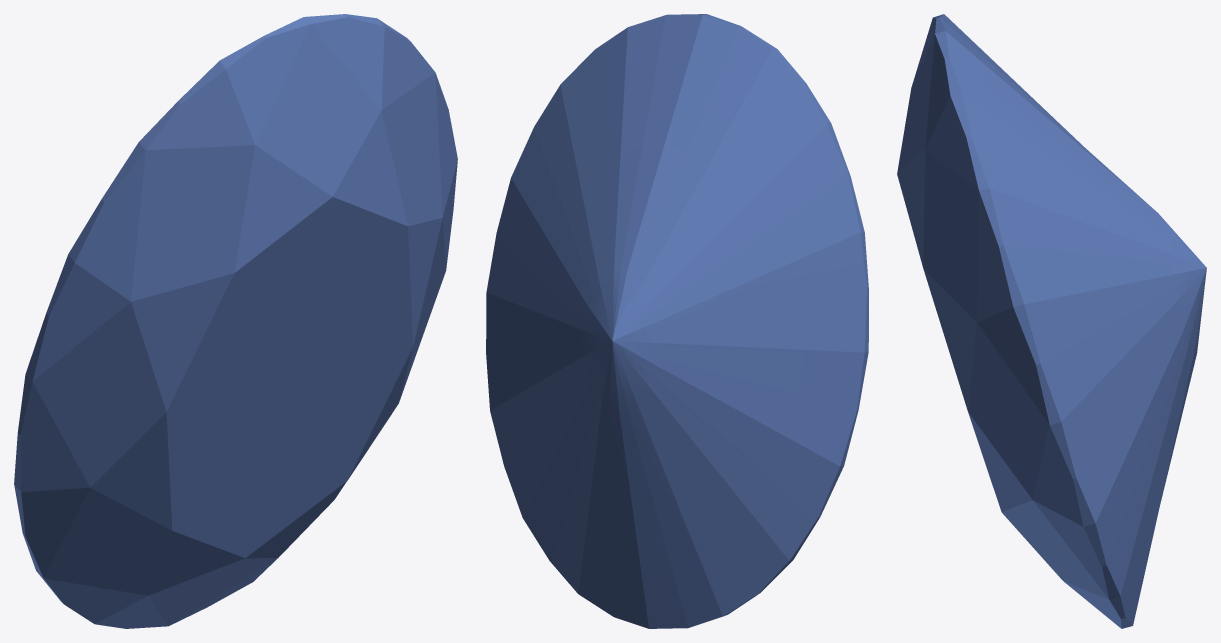
Rendered from BR1_8shapes_Oval_Classic_Stone.001 3.glb.
The picture shows the model from 3 angles, left to right: view 1: azimuth 30°, elevation 25°; view 2: azimuth 150°, elevation 25°; view 3: azimuth 270°, elevation 25°; orthographic projection. The views are drawn at different scales.
Parts seen in each view (by area): view 1: BR1_8shapes_Oval_Classic_Stone.001; view 2: BR1_8shapes_Oval_Classic_Stone.001; view 3: BR1_8shapes_Oval_Classic_Stone.001.
Boxes of the visible parts, x1,y1,x2,y2 form: BR1_8shapes_Oval_Classic_Stone.001: (14, 14, 457, 628); BR1_8shapes_Oval_Classic_Stone.001: (486, 14, 868, 628); BR1_8shapes_Oval_Classic_Stone.001: (897, 14, 1206, 628).
Size of the model in its own units: 0.3885 by 0.5675 by 0.2668.
